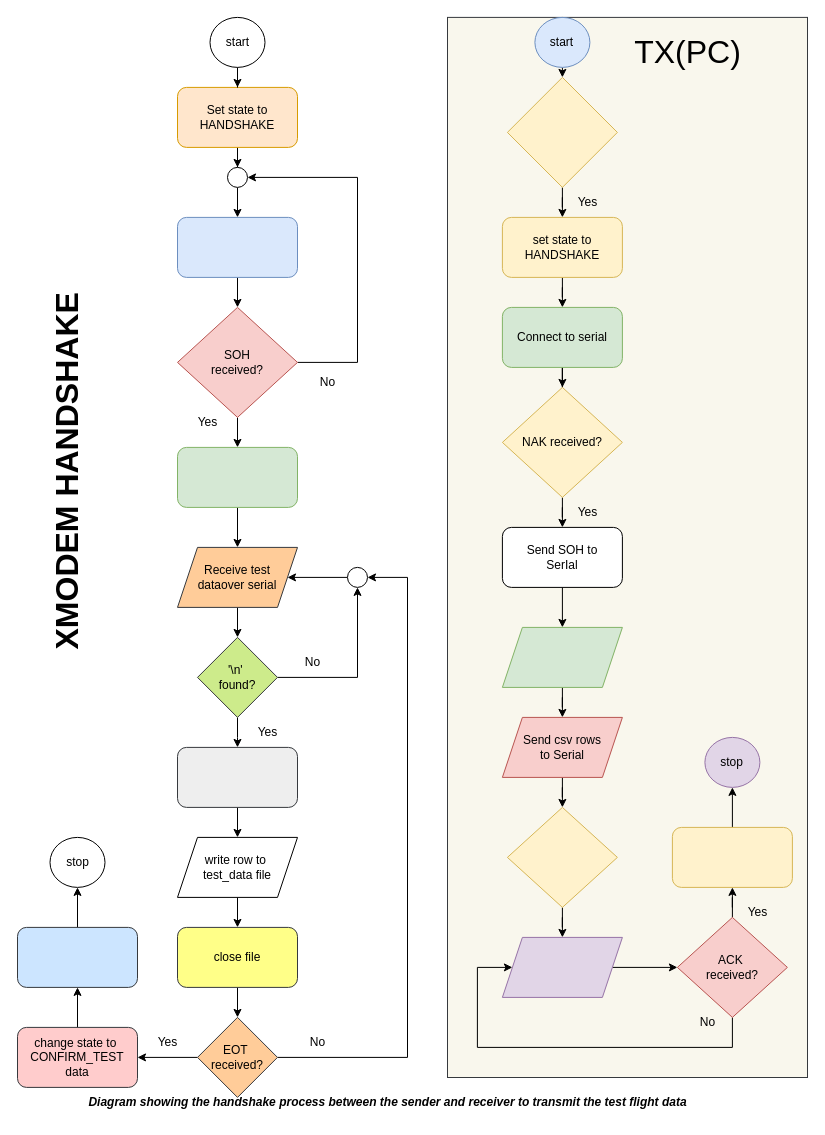
Some shapes in this 825 by 1135 pixel diagram are drawn without their labels. Each missing label, with the box of its shape:
App running?: (506, 76, 617, 187)
change app state to NOMINAL: (671, 826, 792, 887)
Decode test-data.csv file: (501, 626, 622, 687)
End of csv file reached?: (506, 806, 617, 907)
Open test_data file on SD card: (176, 746, 298, 807)
send ACK to serial: (16, 926, 138, 987)
Send EOT to serial: (501, 936, 622, 997)
Send NAK every 4 seconds: (176, 216, 298, 277)
set state to RECEIVE_TEST _DATA: (176, 446, 298, 507)
